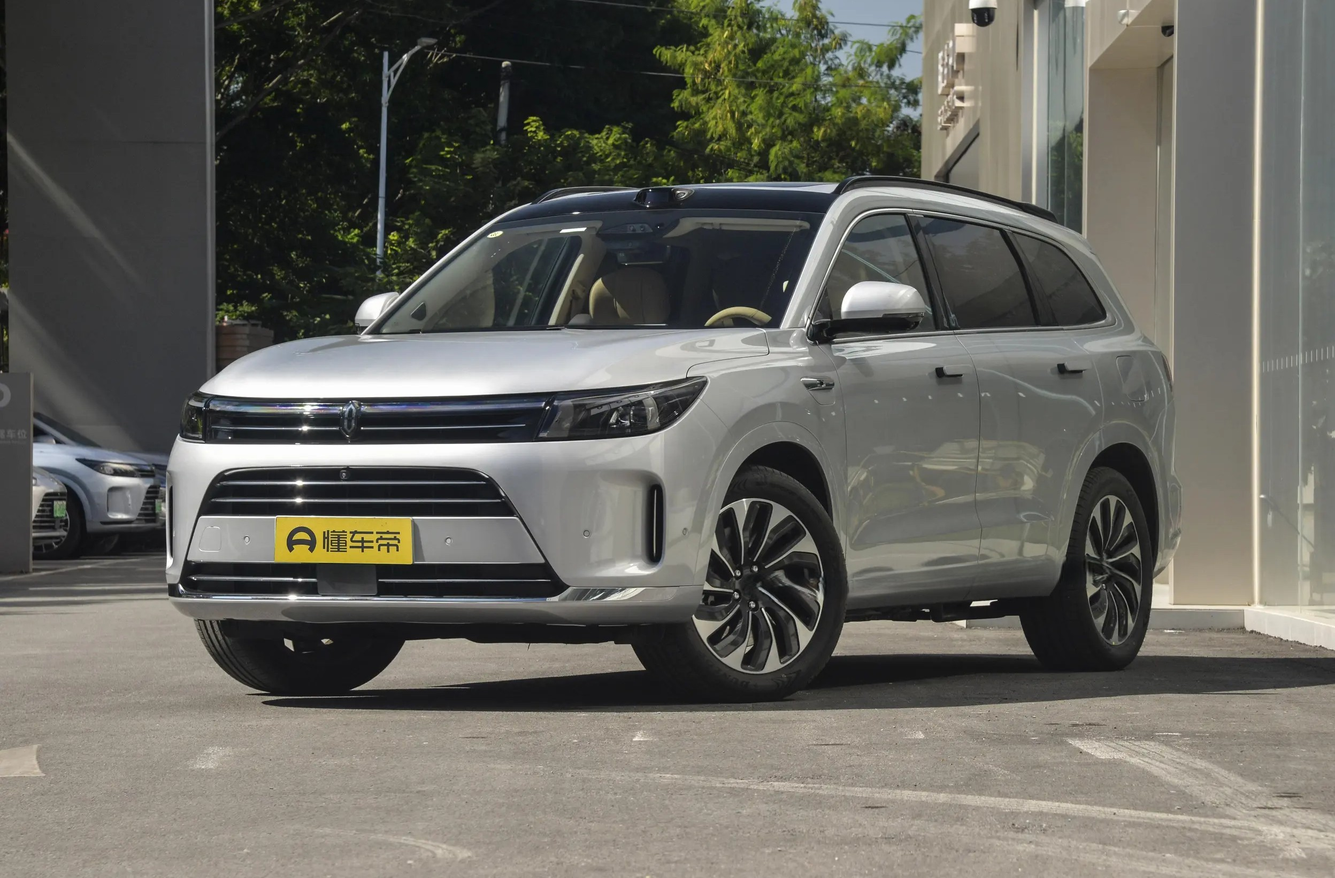AITO: (344, 405, 355, 431)
